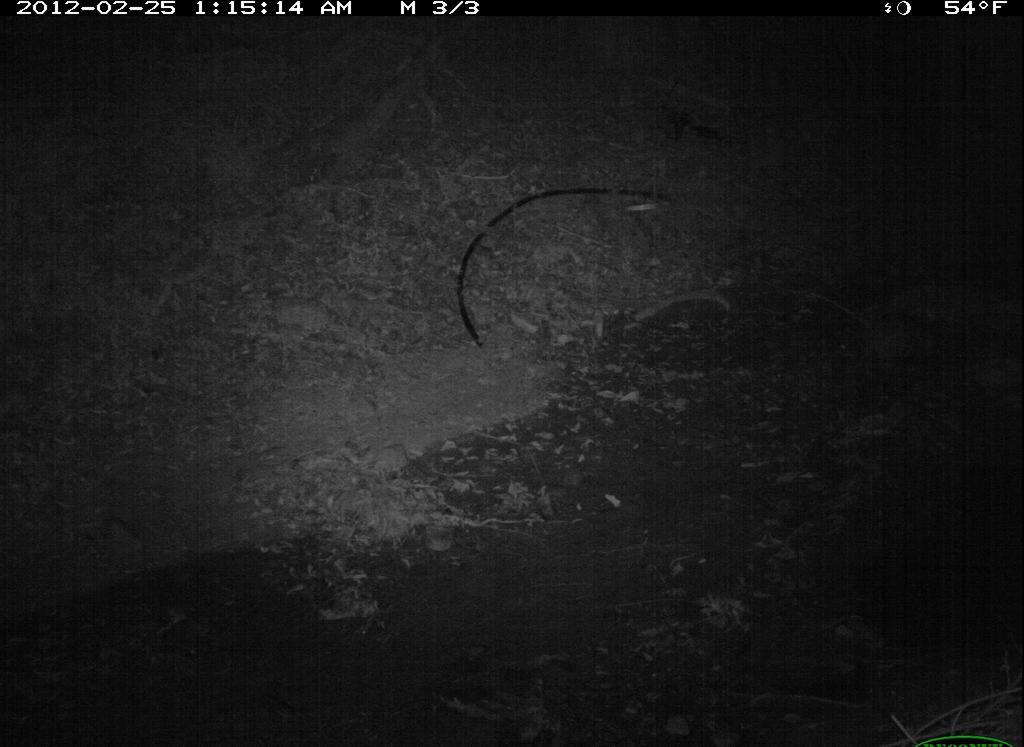opossum: (840, 300, 959, 386)
